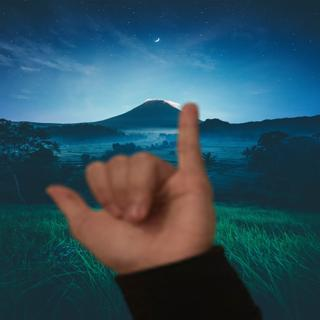HAVE: (36, 98, 218, 277)
